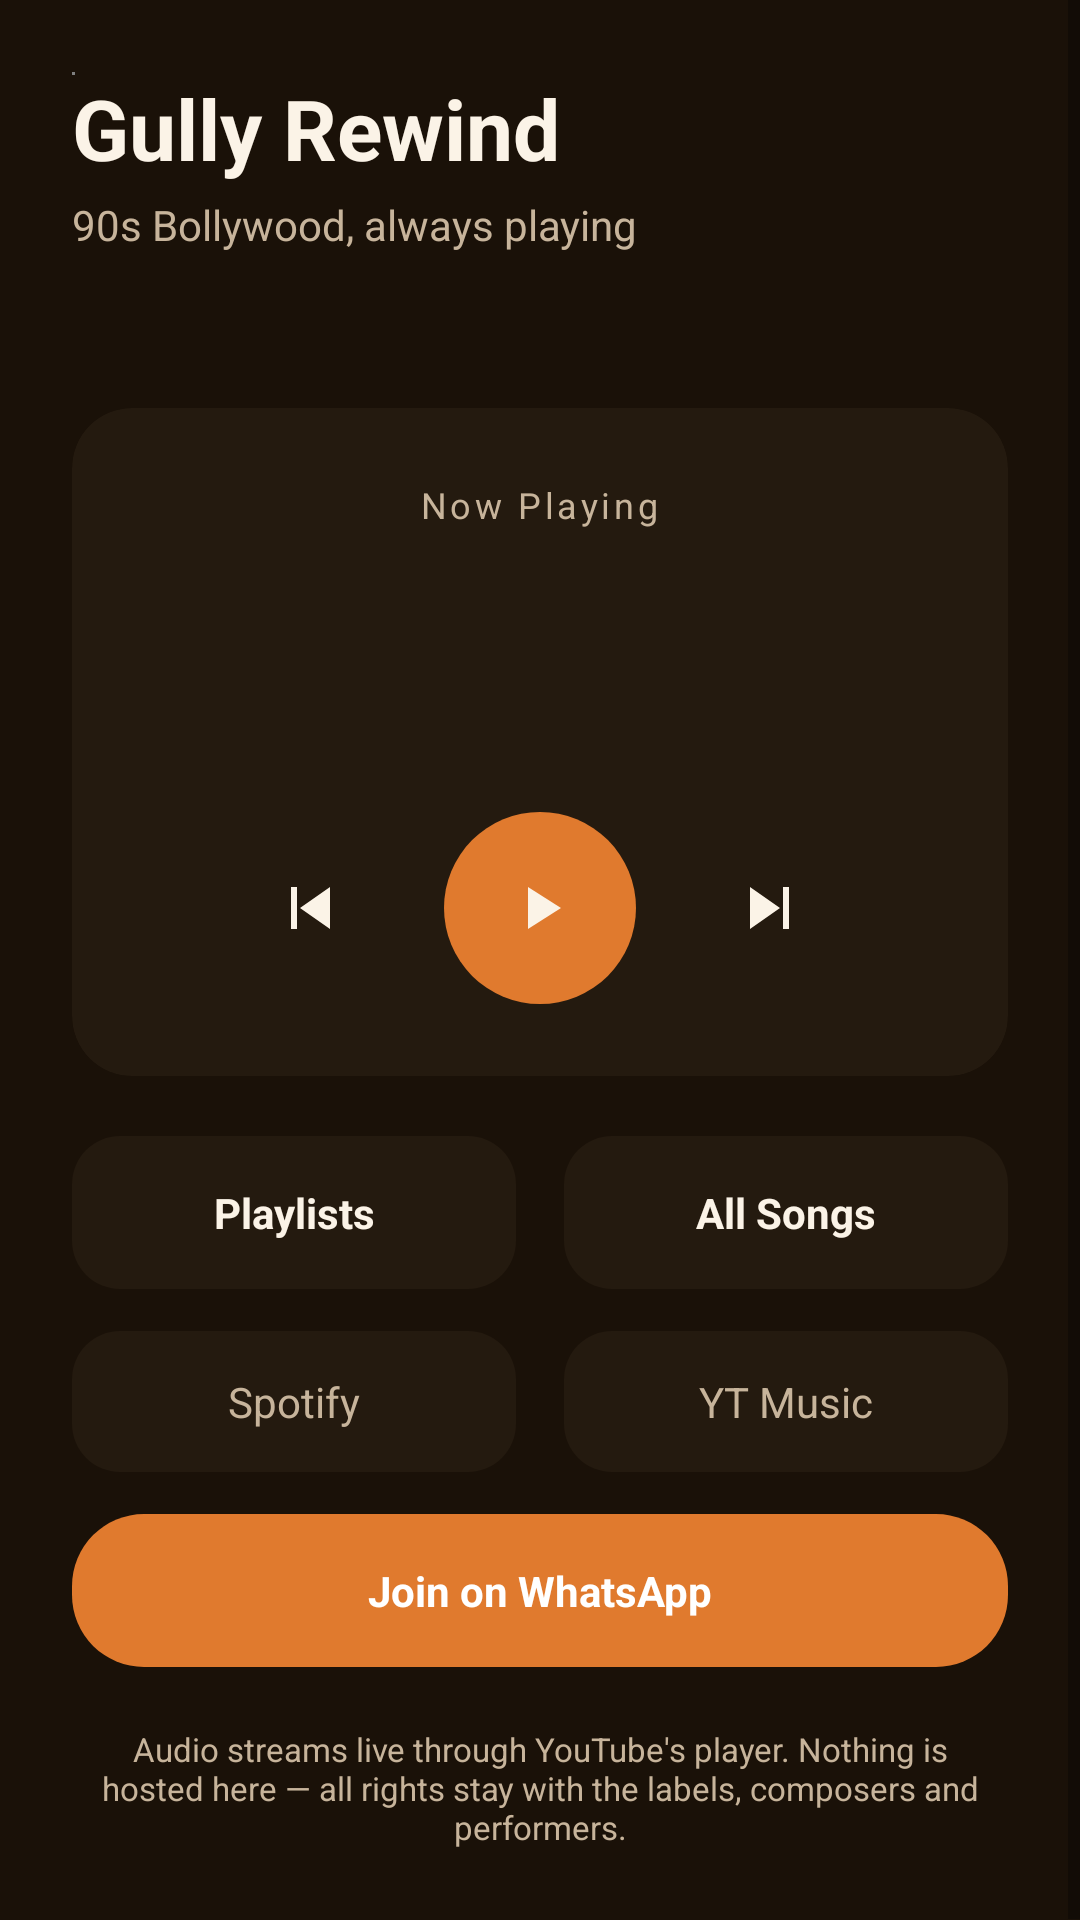

Where to tap for icons on this 1080 × 1920 app screen, as [x,y]:
Next: [769,908]
Previous: [310,908]
